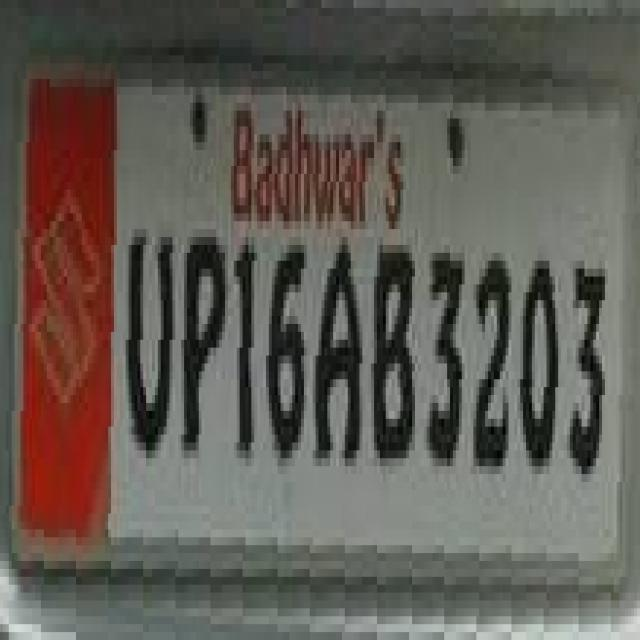license_plate: (0, 134, 640, 561)
